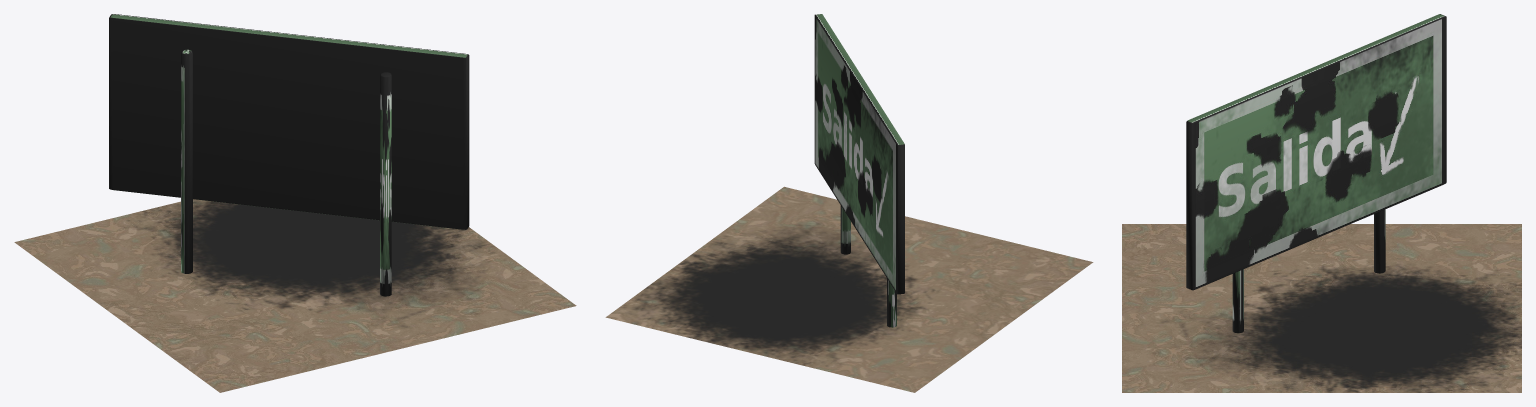
The model's file is suelo.glb.
3 views of the same model, side by side, from view 1: azimuth 30°, elevation 25°; view 2: azimuth 150°, elevation 25°; view 3: azimuth 270°, elevation 25° (orthographic). The views are drawn at different scales.
Parts seen in each view (by area): view 1: cartel, Plane.009; view 2: Plane.009, cartel; view 3: Plane.009, cartel.
Part boxes in pixels (x1,y1,x2,y2): cartel: (109,14,469,296); Plane.009: (14,199,576,392); Plane.009: (605,186,1093,392); cartel: (814,14,904,327); Plane.009: (1122,224,1521,392); cartel: (1186,14,1446,333).
Bounding box in the file's own units: 2 × 1.32 × 2.
2 materials, 2 textured.
